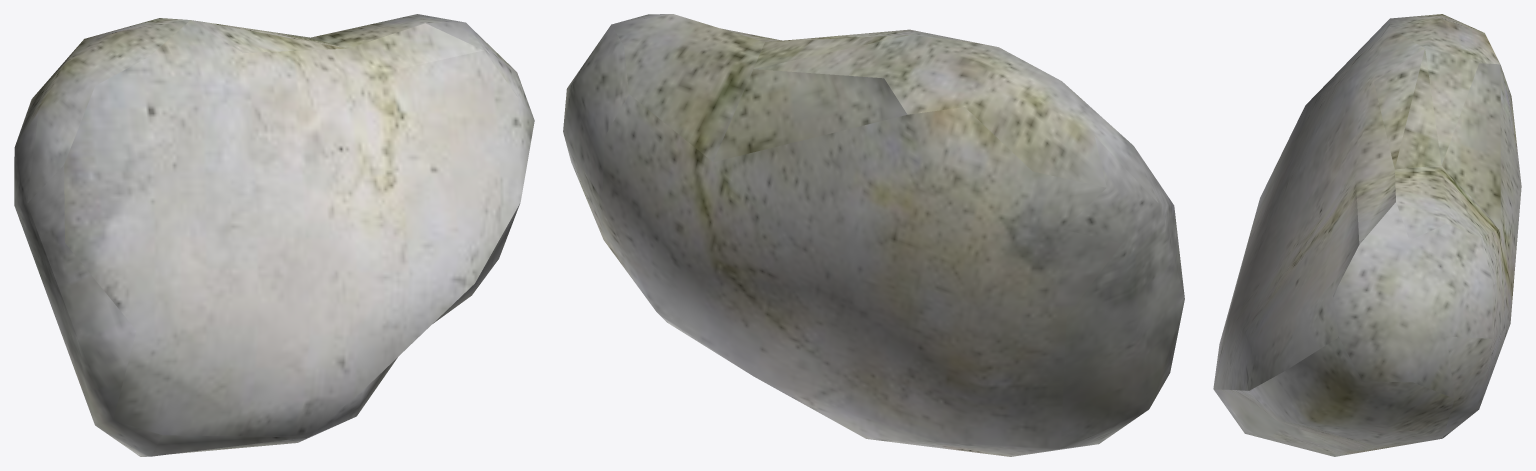
3 views of the same model, side by side, from view 1: azimuth 30°, elevation 25°; view 2: azimuth 150°, elevation 25°; view 3: azimuth 270°, elevation 25° (orthographic). The views are drawn at different scales.
Parts seen in each view (by area): view 1: rock045_lod4; view 2: rock045_lod4; view 3: rock045_lod4.
Boxes of the visible parts, left/top/right/bottom form: rock045_lod4: left=14, top=14, right=534, bottom=456; rock045_lod4: left=563, top=14, right=1184, bottom=456; rock045_lod4: left=1213, top=14, right=1521, bottom=456.
Size of the model in its own units: 1 by 0.7276 by 0.5348.
1 material, 1 textured.
